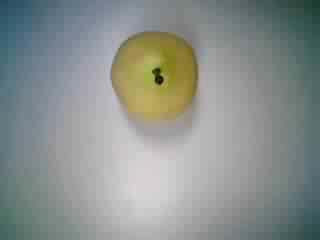pear: (95, 20, 205, 126)
